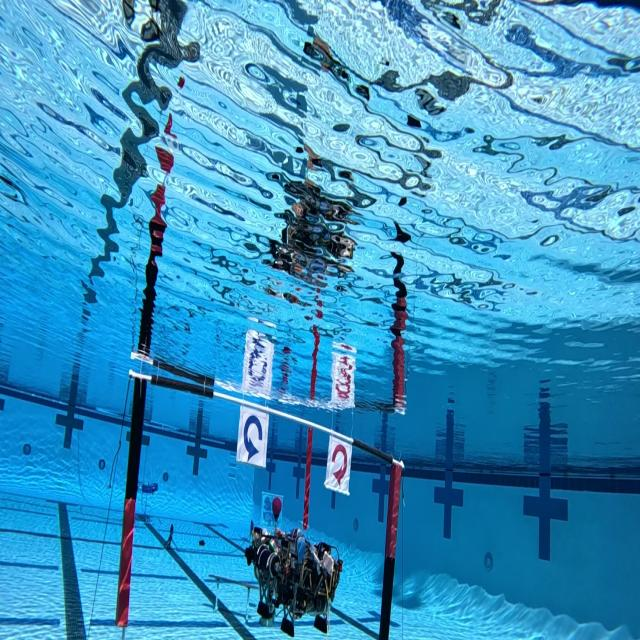blue_side: (236, 400, 270, 468)
red_side: (325, 432, 353, 494)
